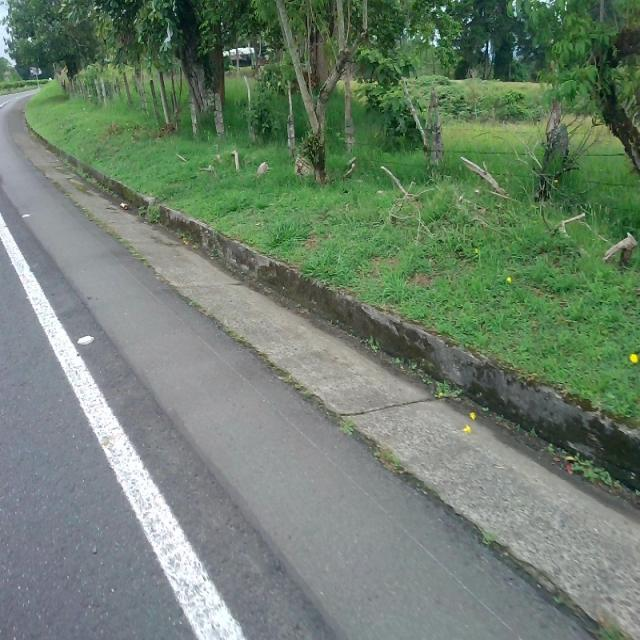DITCH: (4, 2, 638, 637), (5, 83, 638, 638), (1, 128, 638, 638)
